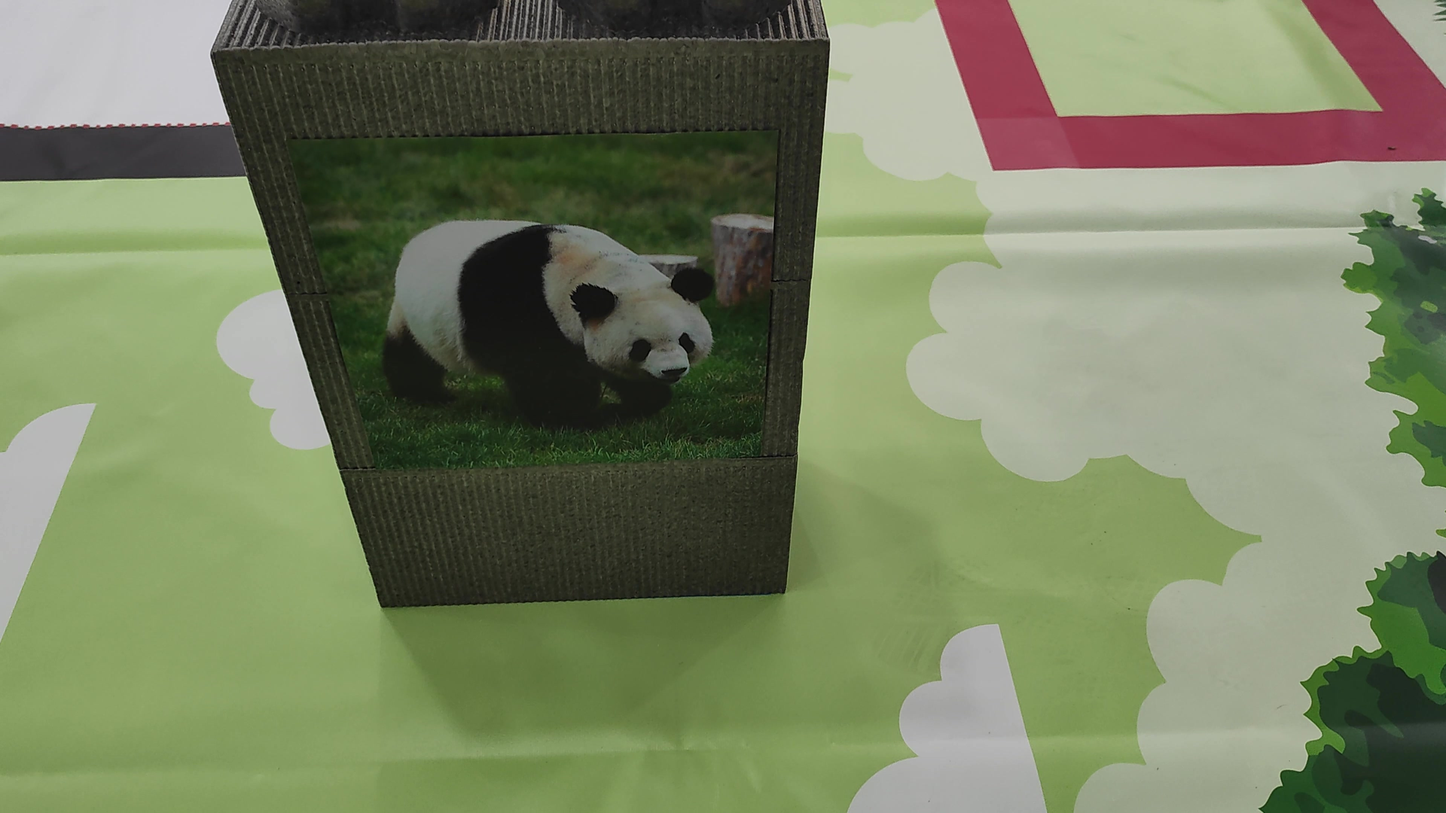panda: (360, 196, 720, 432)
